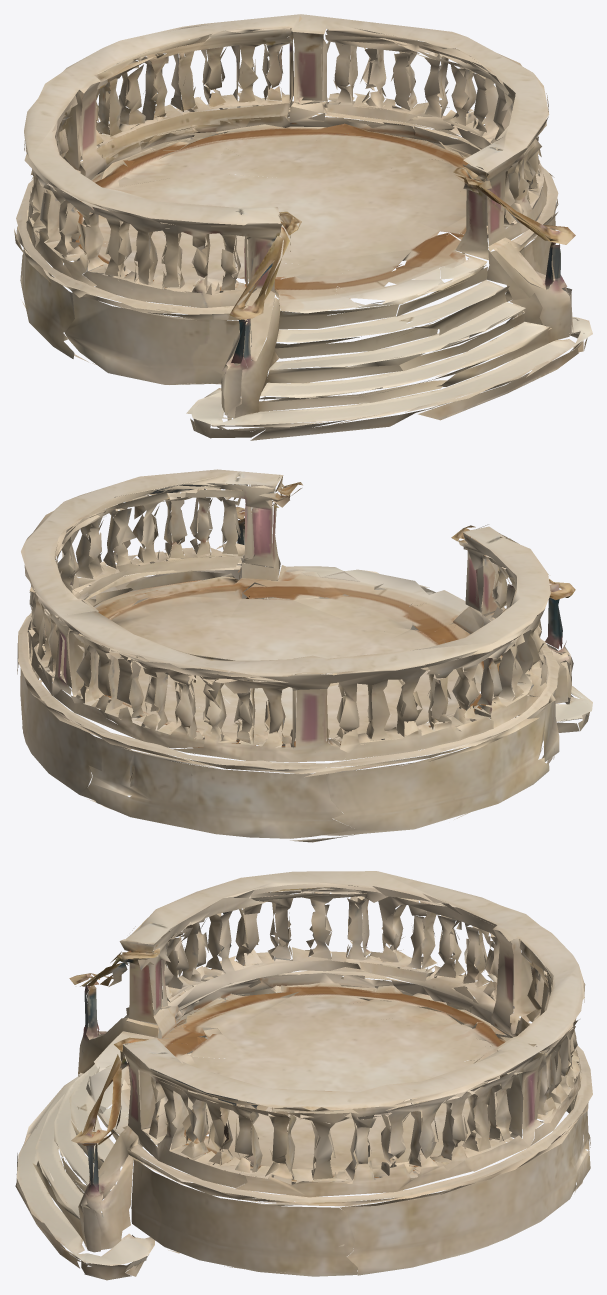
Rendered from unified--detail--terrace.glb.
The picture shows the model from 3 angles, top to bottom: view 1: azimuth 30°, elevation 25°; view 2: azimuth 150°, elevation 25°; view 3: azimuth 270°, elevation 25°; orthographic projection. The views are drawn at different scales.
Parts seen in each view (by area): view 1: terrace-0; view 2: terrace-0; view 3: terrace-0.
Boxes of the visible parts, x1,y1,x2,y2 form: terrace-0: [14, 14, 592, 440]; terrace-0: [17, 469, 592, 842]; terrace-0: [15, 871, 592, 1280].
Size of the model in its own units: 3.01 by 1.15 by 3.01.
1 material, 1 textured.
